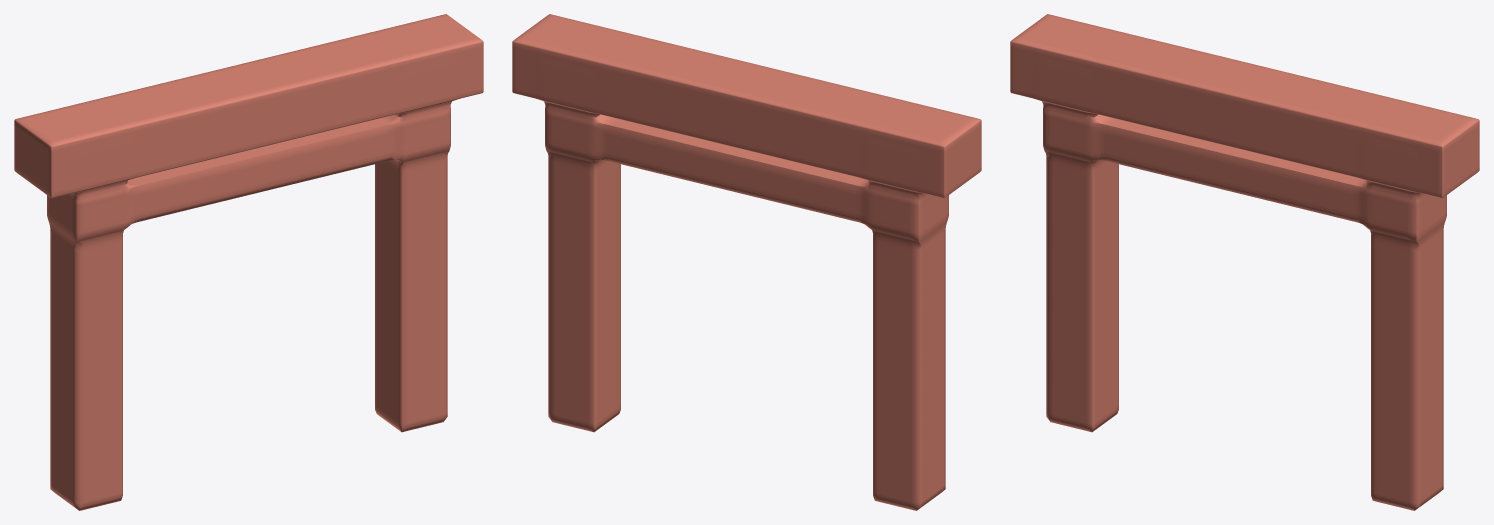
File: gate.glb
The picture shows the model from 3 angles, left to right: view 1: azimuth 30°, elevation 25°; view 2: azimuth 150°, elevation 25°; view 3: azimuth 330°, elevation 25°; orthographic projection.
Parts seen in each view (by area): view 1: gate; view 2: gate; view 3: gate.
Part boxes in pixels (x1=…): gate: x1=14, y1=14, x2=483, y2=510; gate: x1=512, y1=14, x2=981, y2=510; gate: x1=1010, y1=14, x2=1479, y2=510.
Size of the model in its own units: 4 by 3.34 by 0.602.
